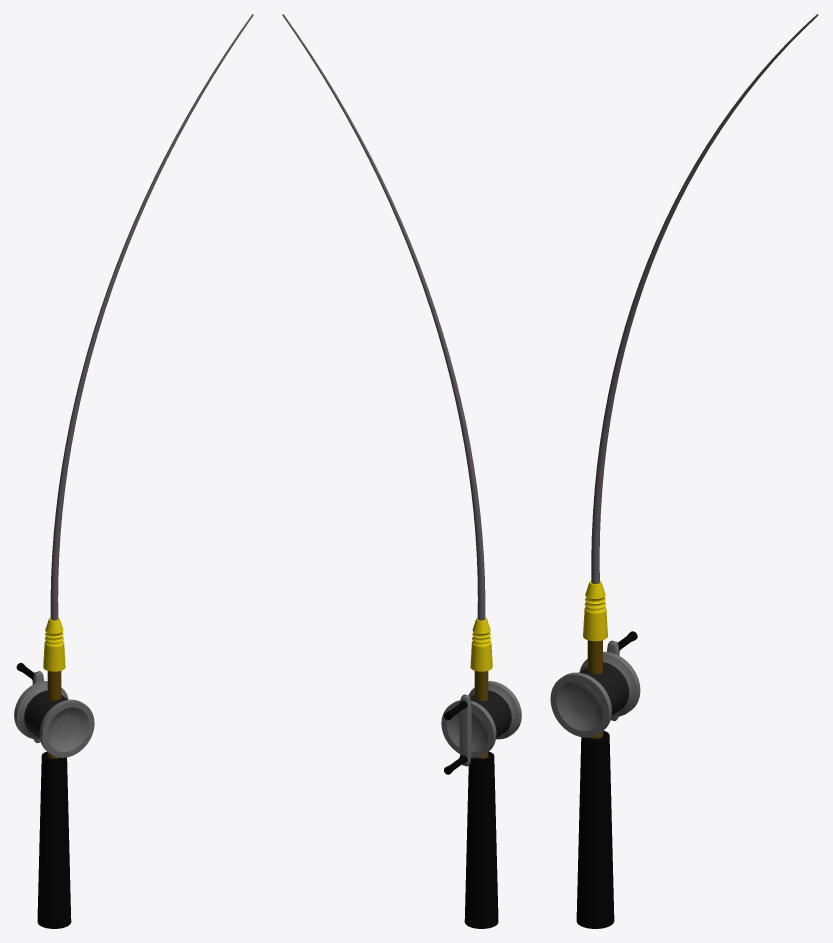
The model's file is Fishing rod.fbx.
The picture shows the model from 3 angles, left to right: view 1: azimuth 30°, elevation 25°; view 2: azimuth 150°, elevation 25°; view 3: azimuth 330°, elevation 25°; orthographic projection. The views are drawn at different scales.
Parts seen in each view (by area): view 1: Cylinder, extended tip, Rod spinner, Golden tip, Rod rolled; view 2: Cylinder, extended tip, Rod spinner, Golden tip, Rod rolled, Handle turner; view 3: Cylinder, Rod spinner, extended tip, Golden tip, Rod rolled, Core.
Part boxes in pixels (x1,y1,x2,y2): Cylinder: (37, 751, 71, 928); extended tip: (50, 14, 253, 620); Rod spinner: (14, 681, 94, 757); Golden tip: (43, 617, 65, 671); Rod rolled: (24, 690, 67, 738); Cylinder: (464, 751, 498, 928); extended tip: (282, 14, 485, 620); Rod spinner: (441, 681, 521, 757); Golden tip: (470, 617, 492, 671); Rod rolled: (470, 690, 511, 738); Handle turner: (459, 694, 471, 766); Cylinder: (576, 730, 614, 928); Rod spinner: (550, 651, 640, 737); extended tip: (591, 14, 818, 584); Golden tip: (583, 581, 607, 641); Rod rolled: (580, 662, 629, 715); Core: (587, 640, 602, 738).
Size of the model in its own units: 1080 by 3931 by 400.
